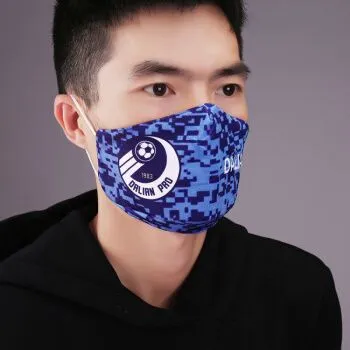withmask: (47, 2, 268, 241)
